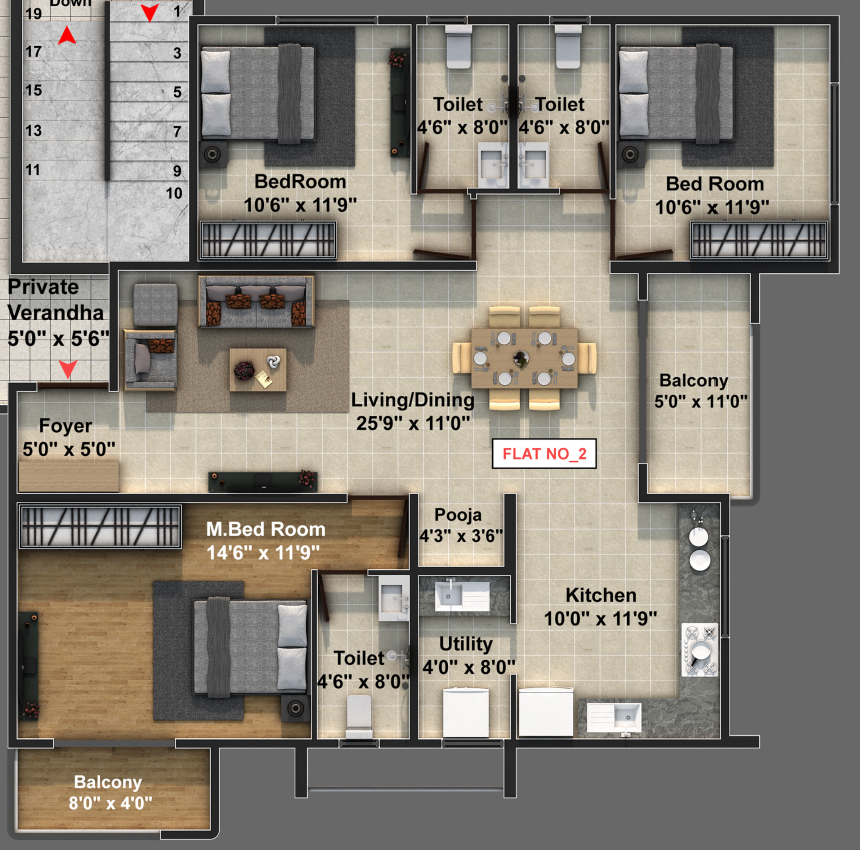door: (346, 496, 411, 556), (613, 199, 674, 261), (414, 200, 475, 261), (314, 570, 370, 622), (558, 142, 612, 194), (415, 140, 467, 193)
